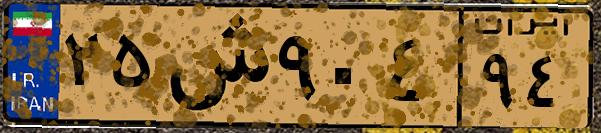0: (330, 28, 385, 110)
2: (57, 26, 110, 100)
4: (385, 28, 445, 110), (525, 38, 570, 115)
5: (110, 28, 158, 98)
9: (270, 28, 330, 110), (475, 38, 525, 113)
ش: (158, 12, 270, 120)
